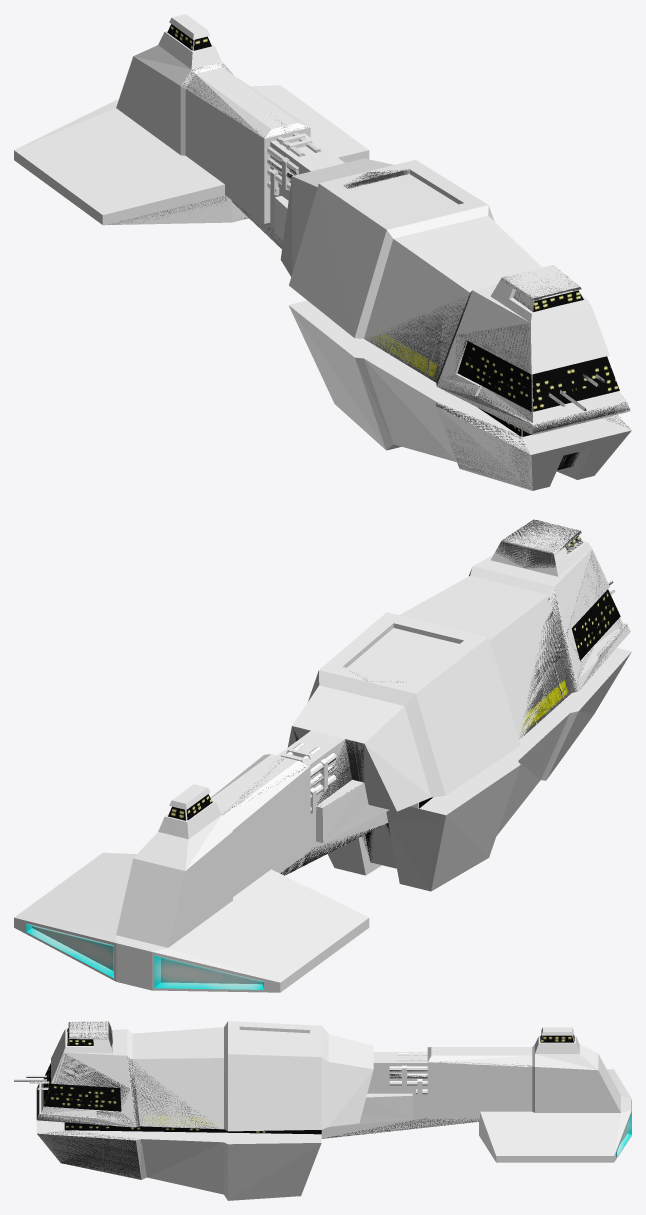
File: TOR_Support_Ship03.obj
3 views of the same model, one above another, from view 1: azimuth 30°, elevation 25°; view 2: azimuth 150°, elevation 25°; view 3: azimuth 270°, elevation 25° (orthographic). The views are drawn at different scales.
Visible parts, largest first — view 1: Shadow, Hull, lights; view 2: Shadow, Hull, lights; view 3: Shadow, Hull, lights.
Boxes of the visible parts, left/top/right/bottom form: Shadow: left=14, top=14, right=631, bottom=490; Hull: left=108, top=63, right=630, bottom=488; lights: left=167, top=24, right=619, bottom=436; Shadow: left=14, top=519, right=631, bottom=992; Hull: left=222, top=519, right=626, bottom=989; lights: left=26, top=589, right=620, bottom=989; Shadow: left=14, top=1021, right=631, bottom=1200; Hull: left=14, top=1021, right=532, bottom=1179; lights: left=43, top=1028, right=631, bottom=1156.
Size of the model in its own units: 69.52 by 58.04 by 210.
